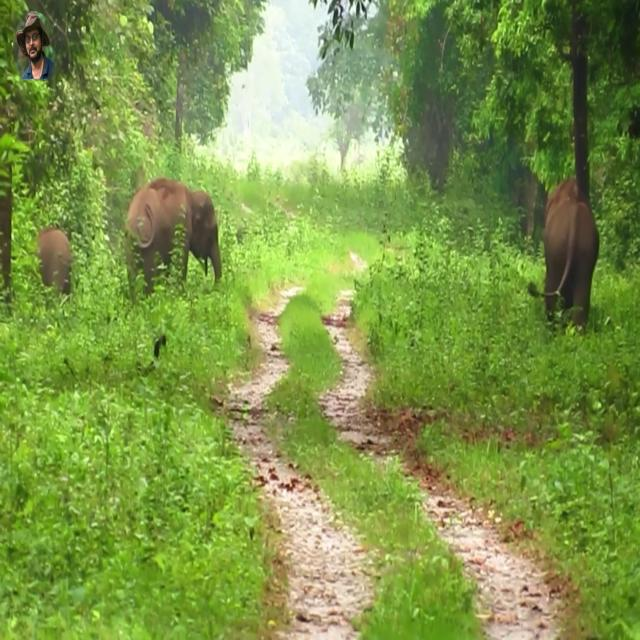Elephant: (124, 176, 222, 304), (540, 176, 600, 331), (36, 226, 72, 297)
